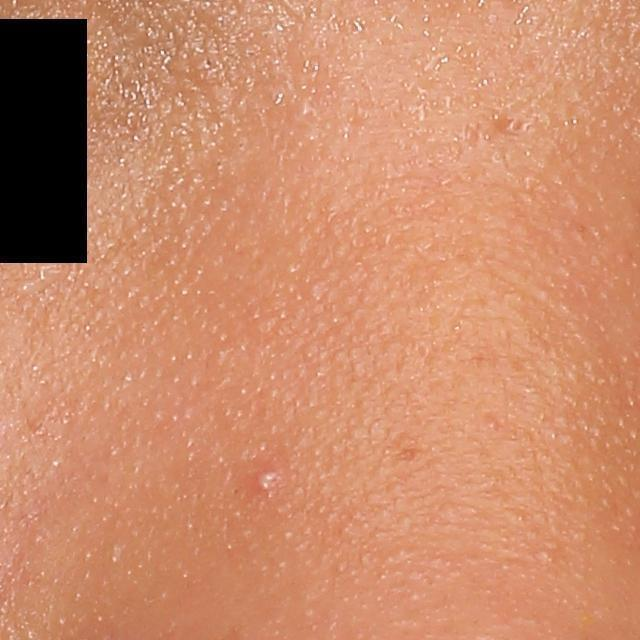pustule: (249, 469, 277, 499)
